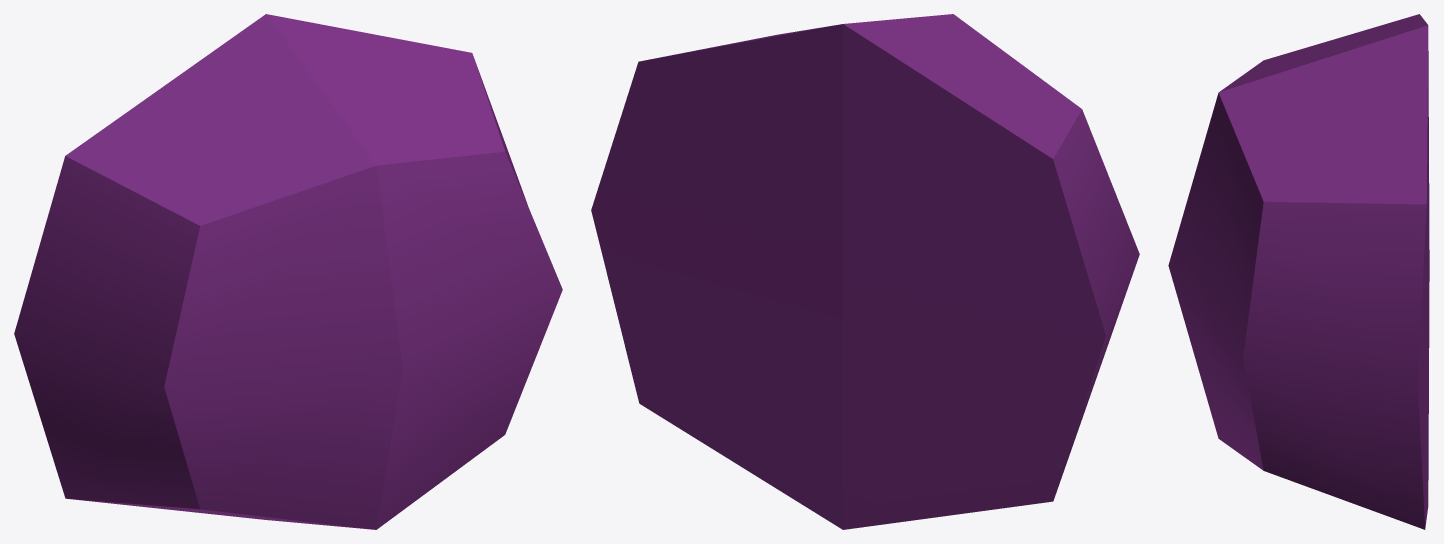
The model's file is button.fbx.
3 views of the same model, side by side, from view 1: azimuth 30°, elevation 25°; view 2: azimuth 150°, elevation 25°; view 3: azimuth 270°, elevation 25° (orthographic). The views are drawn at different scales.
Parts seen in each view (by area): view 1: top_button; view 2: top_button; view 3: top_button.
Part boxes in pixels (left/top/right/bottom): top_button: left=14, top=14, right=562, bottom=529; top_button: left=591, top=14, right=1139, bottom=529; top_button: left=1168, top=14, right=1429, bottom=529.
Bounding box in the file's own units: 1.2 × 1.12 × 0.5533.
